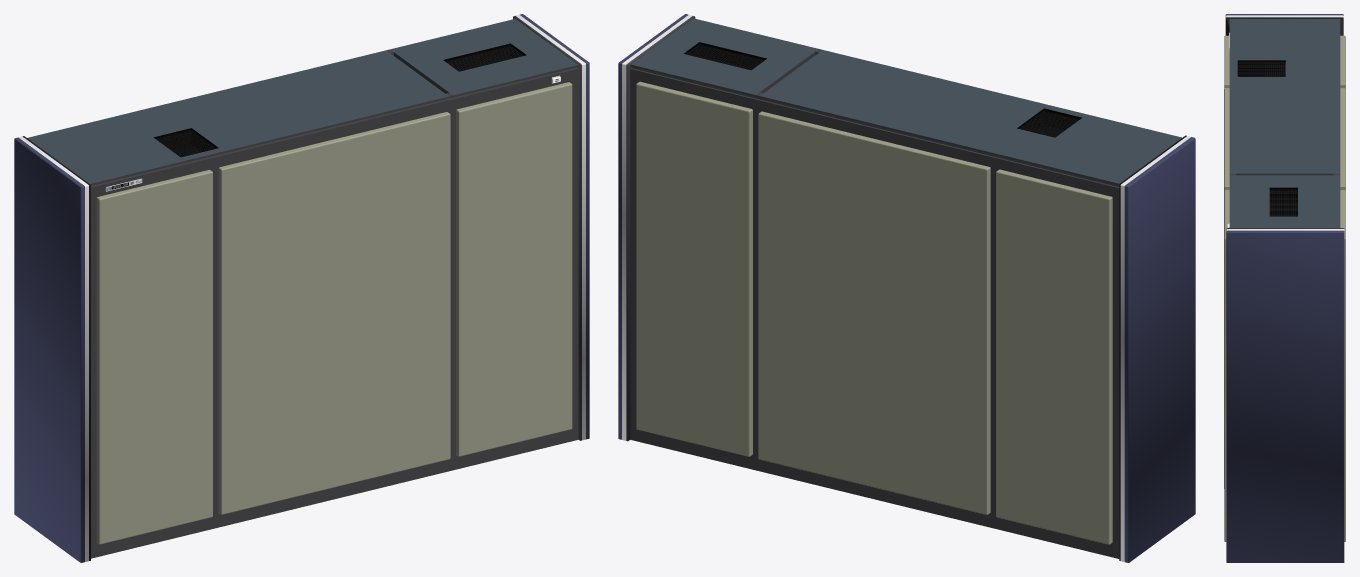
File: a-opt-esm.glb
3 renders of one model, left to right at view 1: azimuth 30°, elevation 25°; view 2: azimuth 150°, elevation 25°; view 3: azimuth 270°, elevation 25°, orthographic. The views are drawn at different scales.
Parts seen in each view (by area): view 1: a-esm; view 2: a-esm; view 3: a-esm.
Part boxes in pixels (x1=…): a-esm: x1=14, y1=14, x2=589, y2=562; a-esm: x1=618, y1=14, x2=1195, y2=562; a-esm: x1=1224, y1=14, x2=1345, y2=562.
Size of the model in its own units: 2.57 by 1.81 by 0.6041.
Materials: 6 (6 with a texture image).
